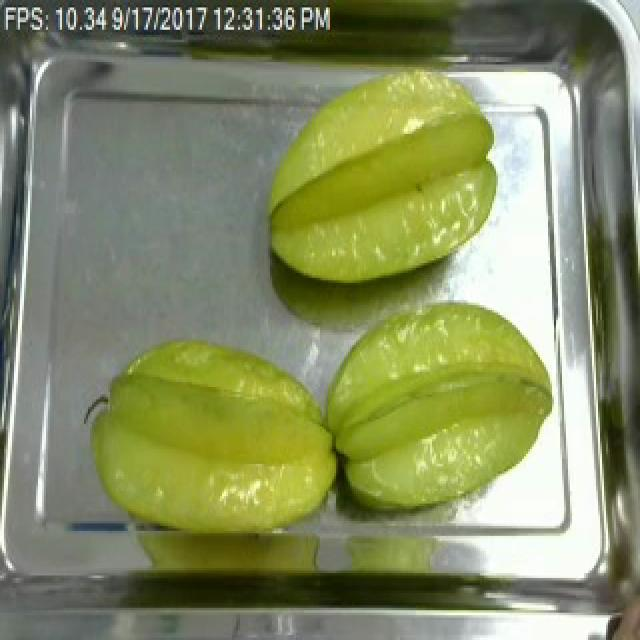fruit: (78, 330, 350, 553), (254, 57, 508, 295), (310, 291, 564, 518)
